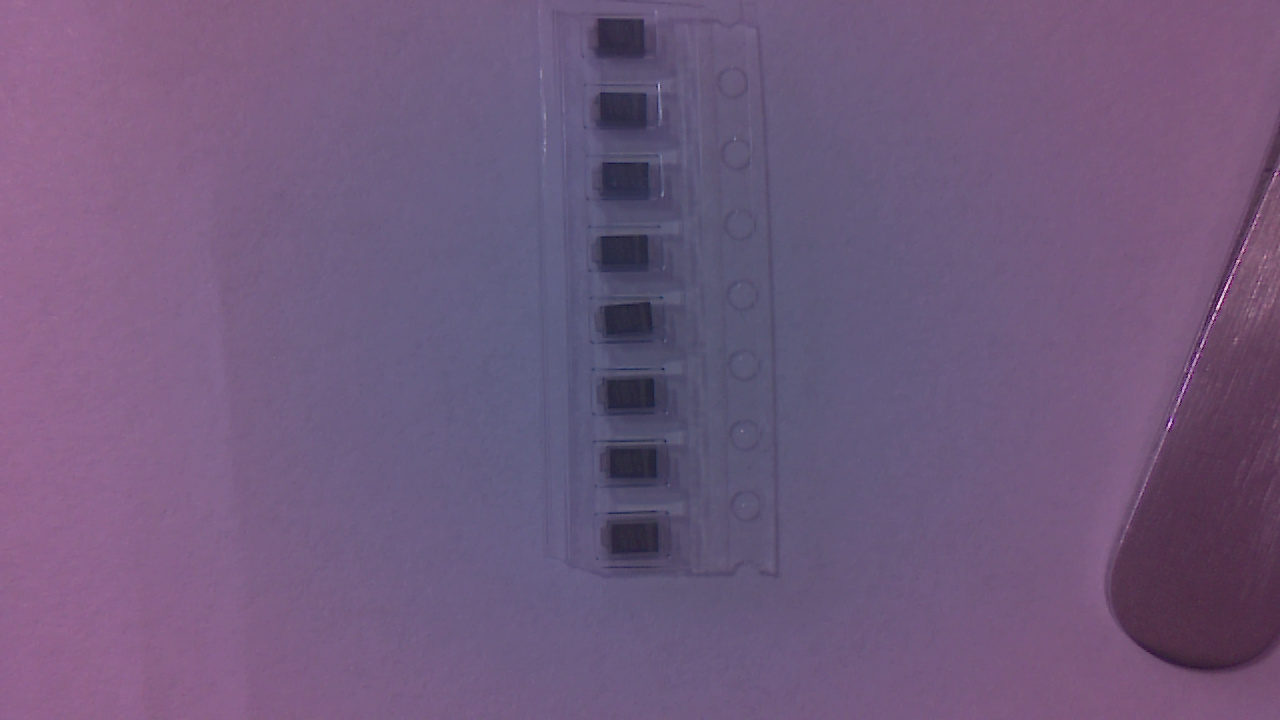Diode: (587, 20, 659, 63), (602, 446, 672, 488), (596, 165, 667, 204), (595, 96, 664, 136), (595, 238, 662, 279), (596, 306, 664, 345), (605, 522, 672, 560), (602, 379, 669, 416)
